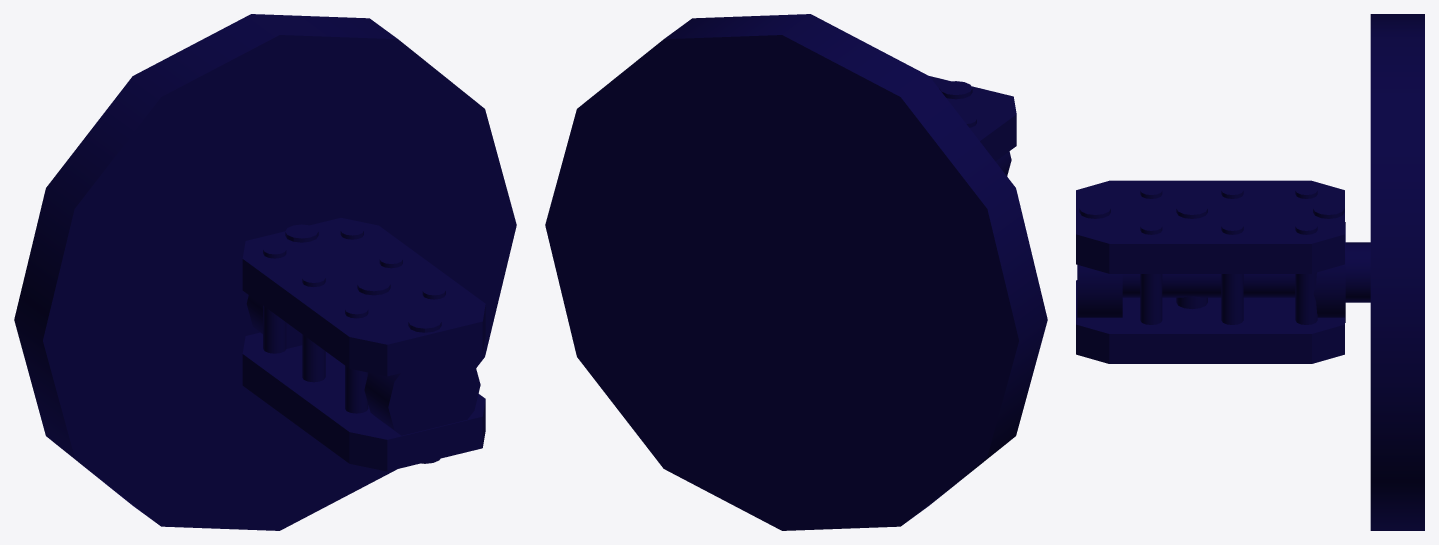
File: trolley.glb
3 renders of one model, left to right at view 1: azimuth 30°, elevation 25°; view 2: azimuth 150°, elevation 25°; view 3: azimuth 270°, elevation 25°, orthographic. The views are drawn at different scales.
Parts seen in each view (by area): view 1: Hook; view 2: Hook; view 3: Hook.
Boxes of the visible parts, x1=… form: Hook: x1=14, y1=14, x2=516, y2=530; Hook: x1=545, y1=14, x2=1047, y2=530; Hook: x1=1076, y1=14, x2=1424, y2=530.
Size of the model in its own units: 0.8628 by 0.8628 by 0.5798.
